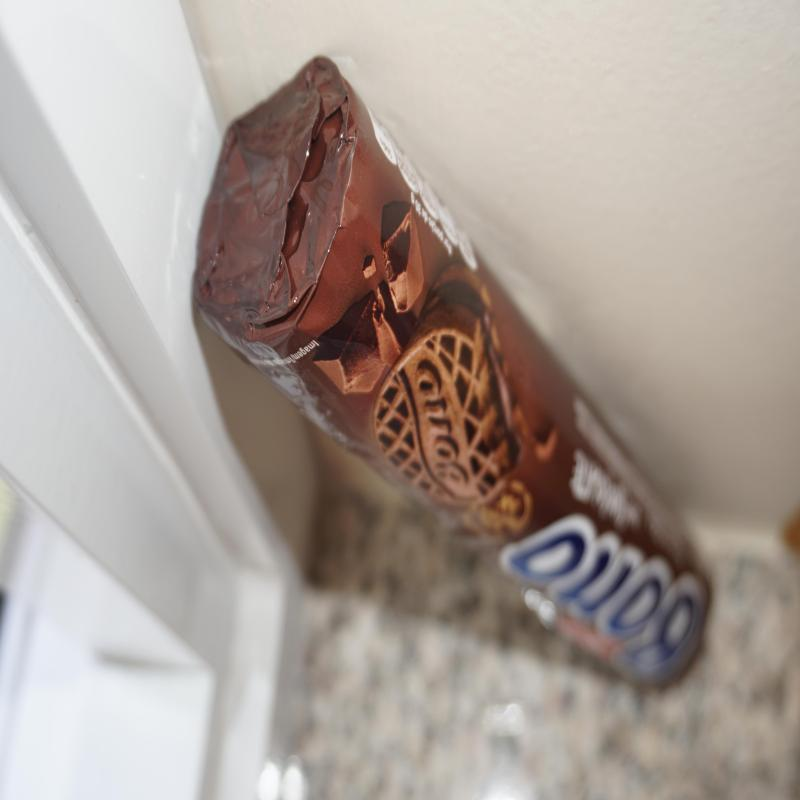Cookies: (190, 56, 714, 692)
